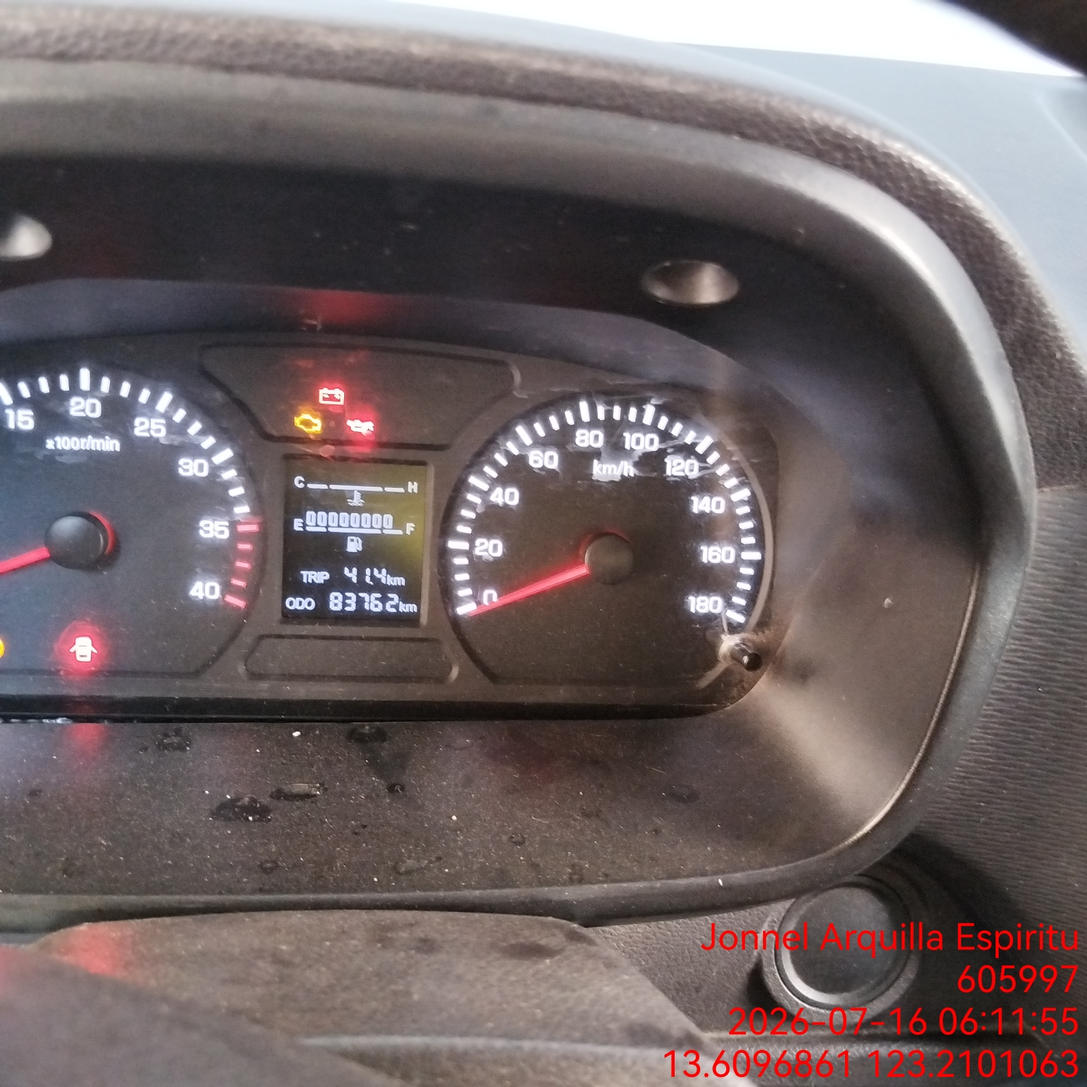grid_pose: (138, 57, 402, 535)
